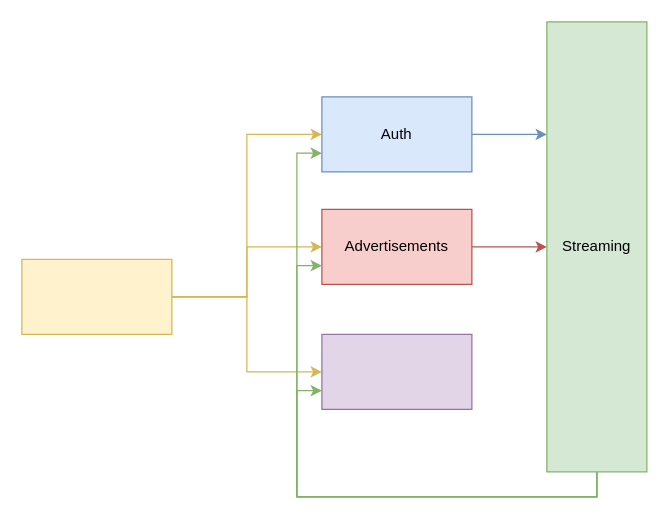
This 669x529 diagram has some shape labels left out. The shapes that lost their labels are listed below. From the top down, each one's box as (x1, y1, x2, y2) in pixels, then its label:
(21, 258, 172, 334): Client
(321, 333, 472, 409): Query
